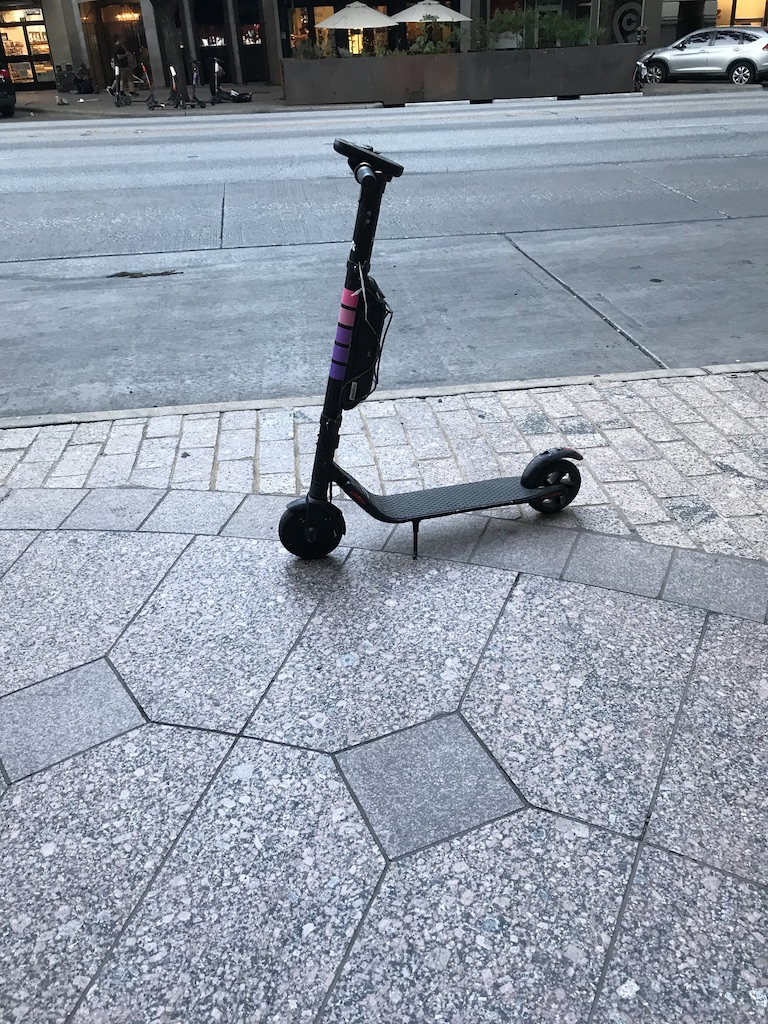scooter: (279, 137, 584, 561)
